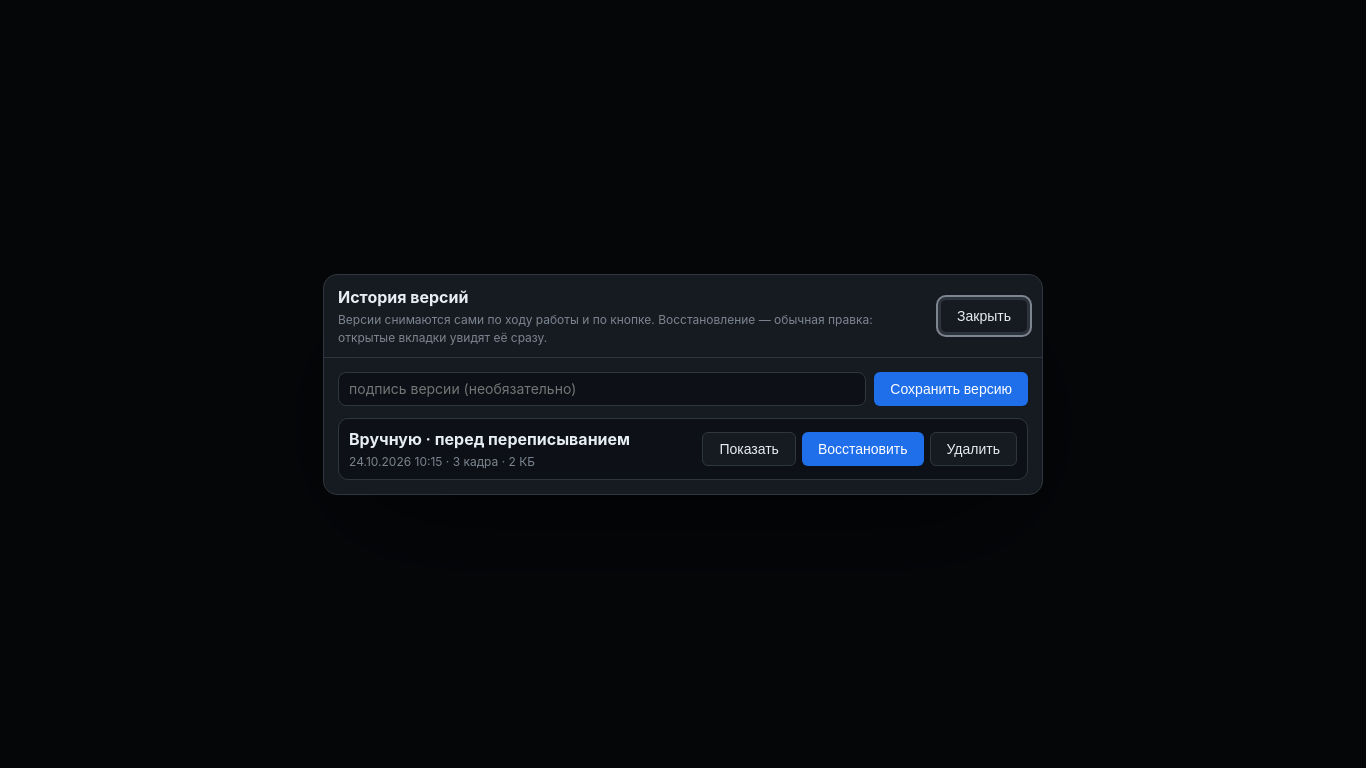
Test case: VersionsModal › показывает, что было в версии, до восстановления
What coordinates should you click on to do the following:
click the button "Показать"
I would click on:
 (749, 448)
Its box is [702,432,796,466].
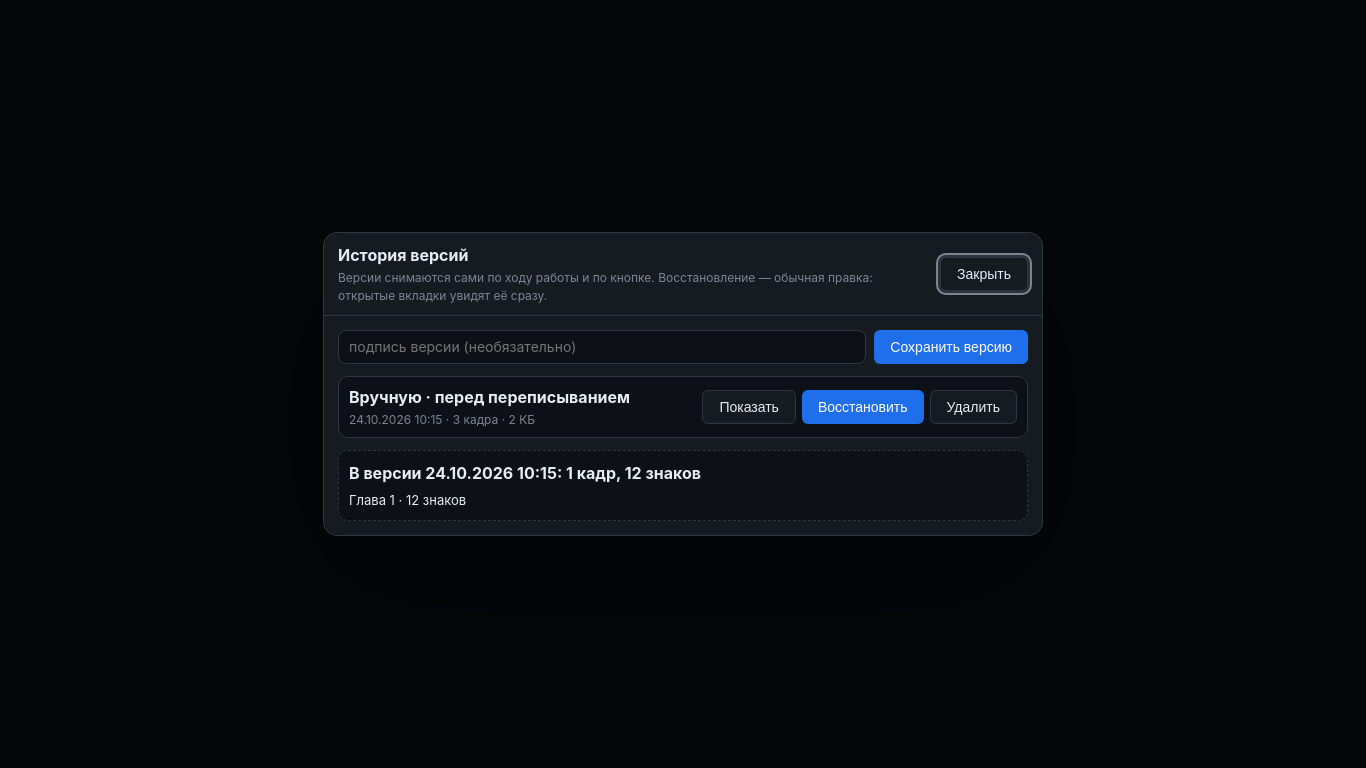
Now the text "В версии 24.10.2026 10:15: 1 кадр, 12 знаков" is shown, box [349,463,701,483]
Now the list item "Глава 1 · 12 знаков" is shown, box [349,492,466,508]
